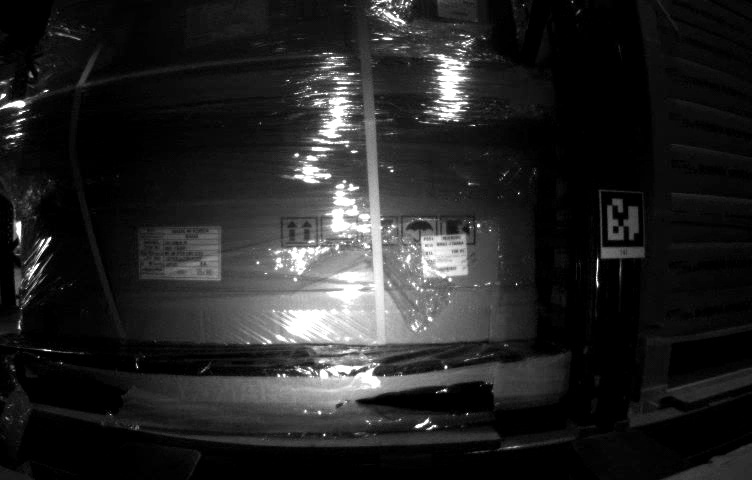True Barcode: (421, 232, 468, 279)
